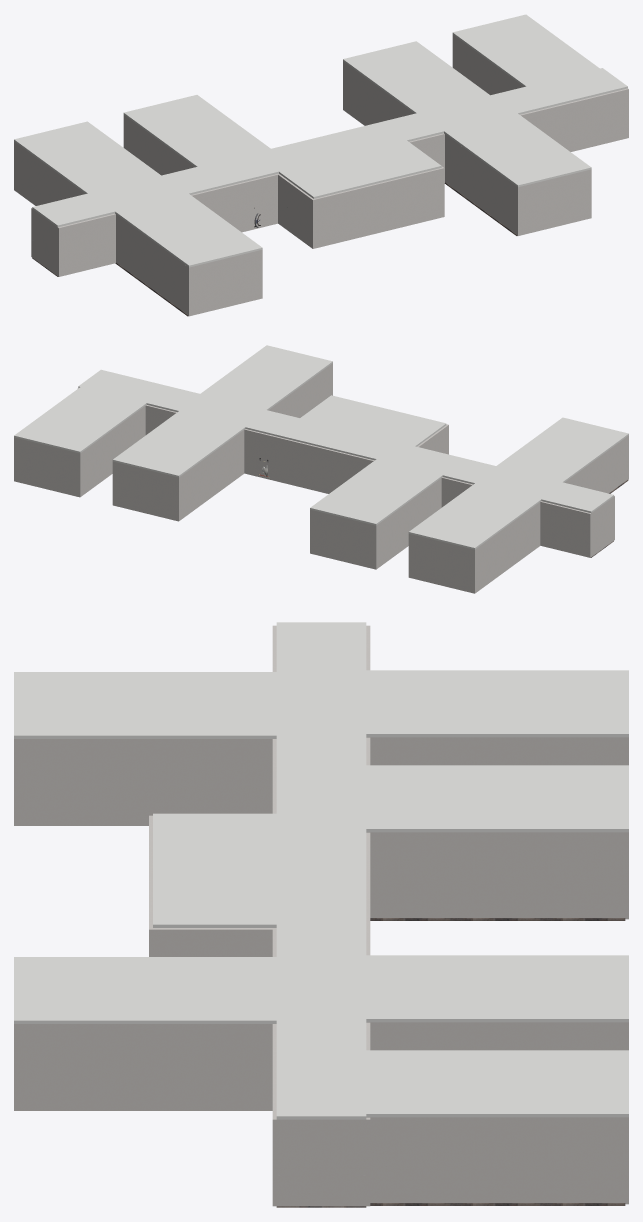
Rendered from ward.glb.
3 renders of one model, top to bottom at view 1: azimuth 30°, elevation 25°; view 2: azimuth 150°, elevation 25°; view 3: azimuth 270°, elevation 25°, orthographic. The views are drawn at different scales.
Visible parts, largest first — view 1: corr_ceiling, bay_wall_south, R6_shell_ceiling, R5_shell_ceiling, R4_shell_ceiling, R2_shell_ceiling, R3_shell_ceiling, R1_shell_ceiling, bay_ceiling, corr_wall_south.003, R5_shell_wall_south, R6_shell_wall_south (+11 smaller); view 2: corr_ceiling, corr_wall_north.002, R1_shell_ceiling, R3_shell_ceiling, R4_shell_ceiling, R2_shell_ceiling, R6_shell_ceiling, R5_shell_ceiling, bay_ceiling, R3_shell_wall_south, R2_shell_wall_south, R1_shell_wall_south (+12 smaller); view 3: corr_ceiling, R6_shell_wall_east, R2_room_wall_paint, R4_room_wall_paint, R5_shell_wall_east, R1_shell_ceiling, R2_shell_ceiling, R3_shell_ceiling, R4_shell_ceiling, R5_shell_ceiling, R6_shell_ceiling, bay_ceiling (+5 smaller).
Part boxes in pixels (box(x1,y1,x2,y2)): corr_ceiling: box(32, 68, 627, 227); bay_wall_south: box(314, 168, 442, 248); R6_shell_ceiling: box(444, 113, 591, 187); R5_shell_ceiling: box(115, 193, 262, 267); R4_shell_ceiling: box(452, 14, 599, 86); R2_shell_ceiling: box(123, 95, 270, 166); R3_shell_ceiling: box(343, 41, 489, 113); R1_shell_ceiling: box(14, 121, 160, 193); bay_ceiling: box(279, 140, 441, 198); corr_wall_south.003: box(520, 88, 628, 151); R5_shell_wall_south: box(188, 249, 262, 316); R6_shell_wall_south: box(517, 169, 591, 235); corr_ceiling: box(78, 369, 613, 513); corr_wall_north.002: box(244, 429, 374, 493); R1_shell_ceiling: box(408, 483, 541, 549); R3_shell_ceiling: box(112, 411, 245, 477); R4_shell_ceiling: box(14, 387, 146, 453); R2_shell_ceiling: box(310, 459, 442, 525); R6_shell_ceiling: box(200, 345, 332, 410); R5_shell_ceiling: box(496, 417, 628, 482); bay_ceiling: box(300, 395, 446, 446); R3_shell_wall_south: box(112, 461, 179, 521); R2_shell_wall_south: box(310, 509, 377, 569); R1_shell_wall_south: box(408, 534, 475, 593); corr_ceiling: box(276, 622, 366, 1119); R6_shell_wall_east: box(14, 1024, 272, 1110); R2_room_wall_paint: box(366, 832, 626, 918); R4_room_wall_paint: box(366, 1117, 626, 1203); R5_shell_wall_east: box(14, 739, 272, 825); R1_shell_ceiling: box(366, 670, 628, 737); R2_shell_ceiling: box(366, 765, 628, 832); R3_shell_ceiling: box(366, 955, 628, 1022); R4_shell_ceiling: box(366, 1050, 628, 1117); R5_shell_ceiling: box(14, 672, 276, 738); R6_shell_ceiling: box(14, 957, 276, 1023); bay_ceiling: box(153, 813, 276, 927).
Bounding box in the file's own units: 31.2 × 2.7 × 16.41.
Materials: 59 (18 with a texture image).
